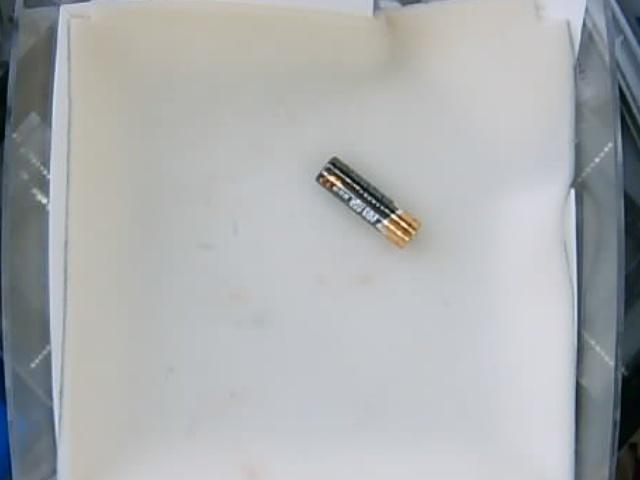Battery: (316, 153, 421, 246)
